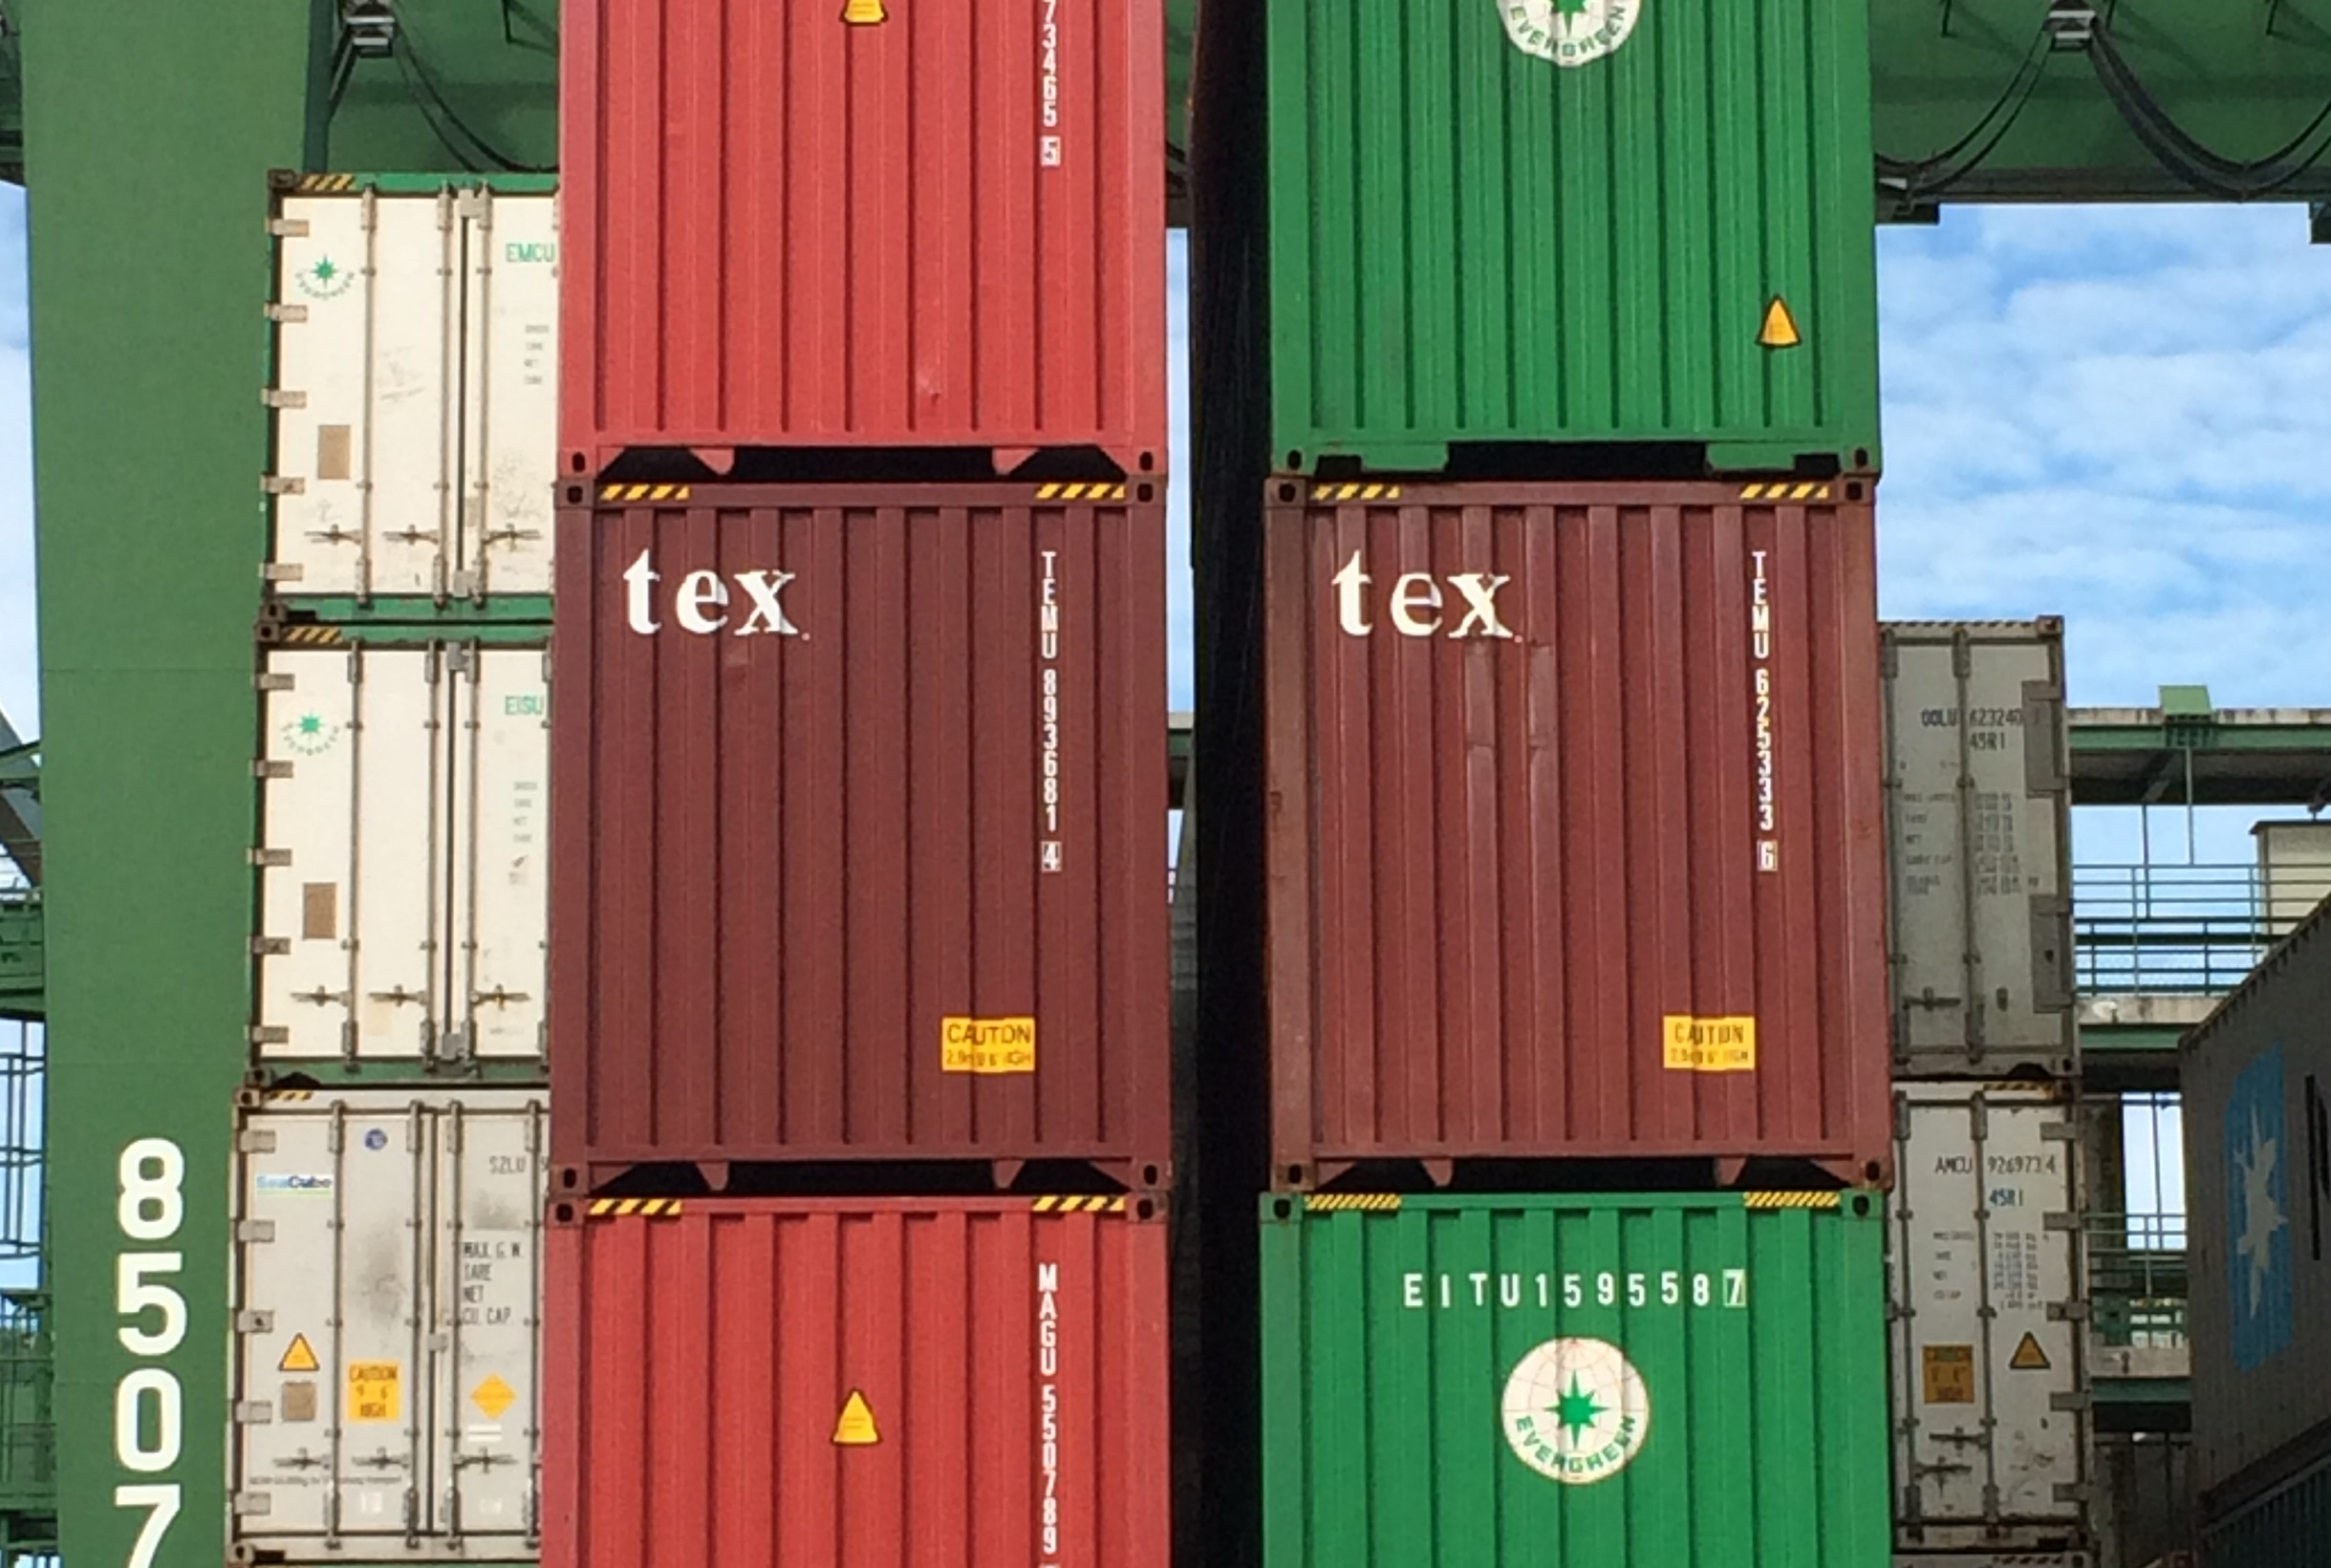container_door: (240, 1090, 534, 1564), (271, 152, 563, 626), (263, 611, 555, 1085)
container_no_door: (1269, 474, 1894, 1192), (555, 483, 1178, 1200), (562, 2, 1169, 476), (1267, 2, 1873, 476), (1264, 1190, 1886, 1568), (537, 1190, 1158, 1568)
